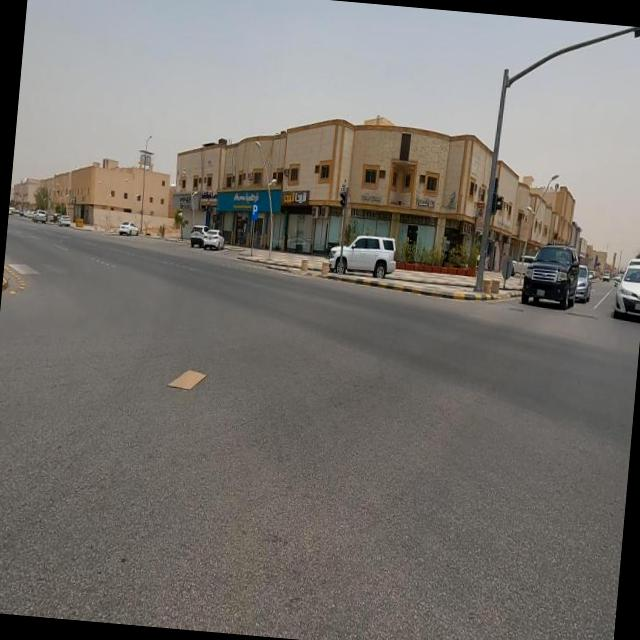debris: (153, 329, 225, 430)
